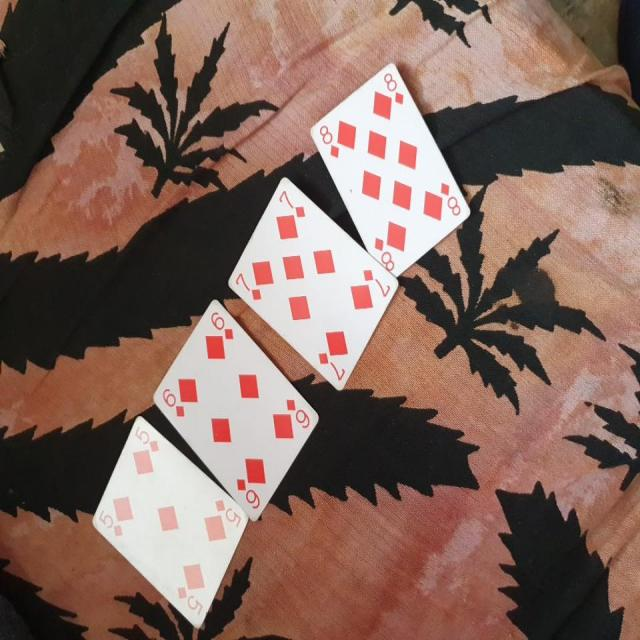5 Diamonds: (90, 412, 251, 626)
6 Diamonds: (152, 295, 321, 520)
7 Diamonds: (228, 173, 398, 394)
8 Diamonds: (308, 61, 472, 276)
